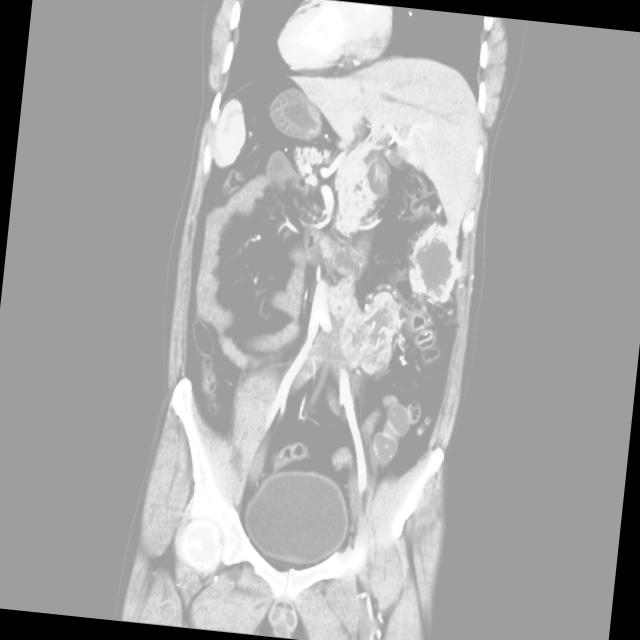TUMOR: (49, 128, 515, 470)
